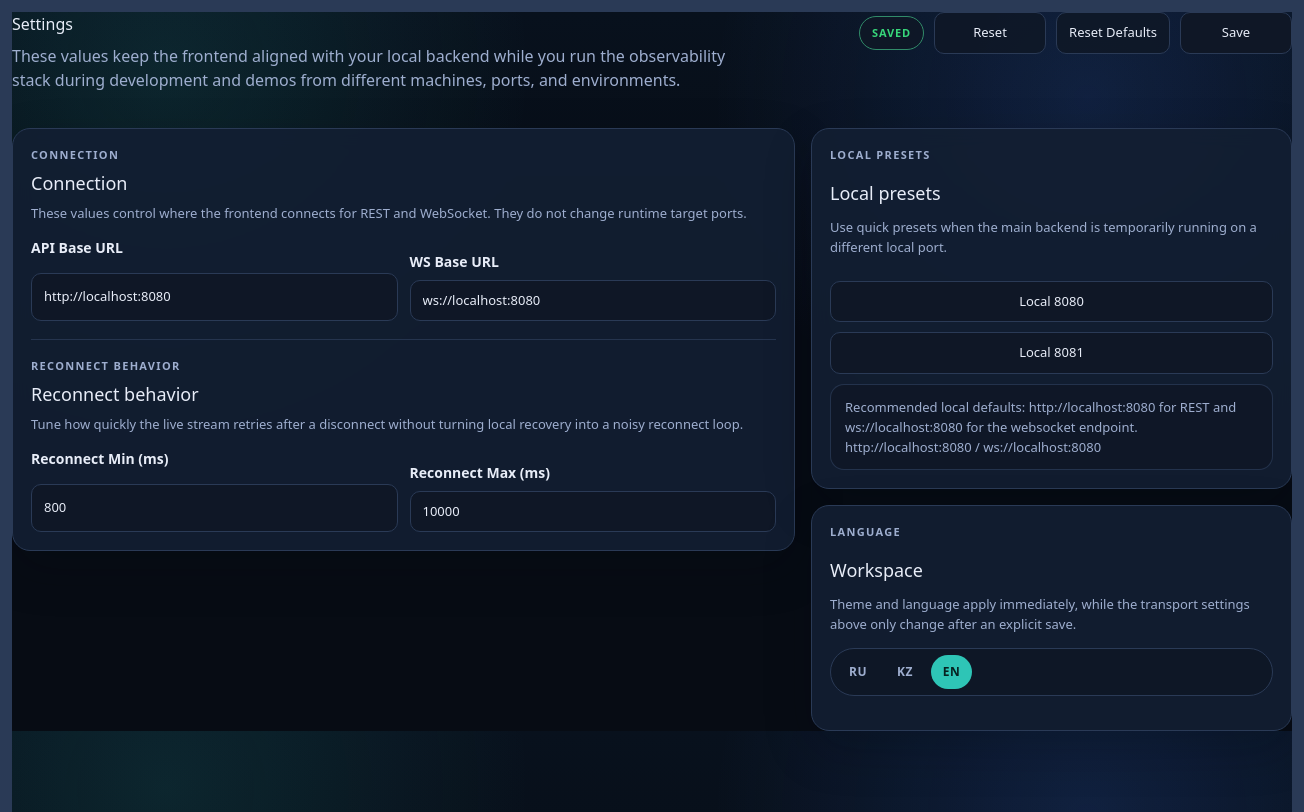
Scenario: SettingsPage › resets draft values without changing persisted settings
Replace the text in the field labelled "API Base URL" with "http://localhost:8081" at [214, 297], box [31,273,398,321]
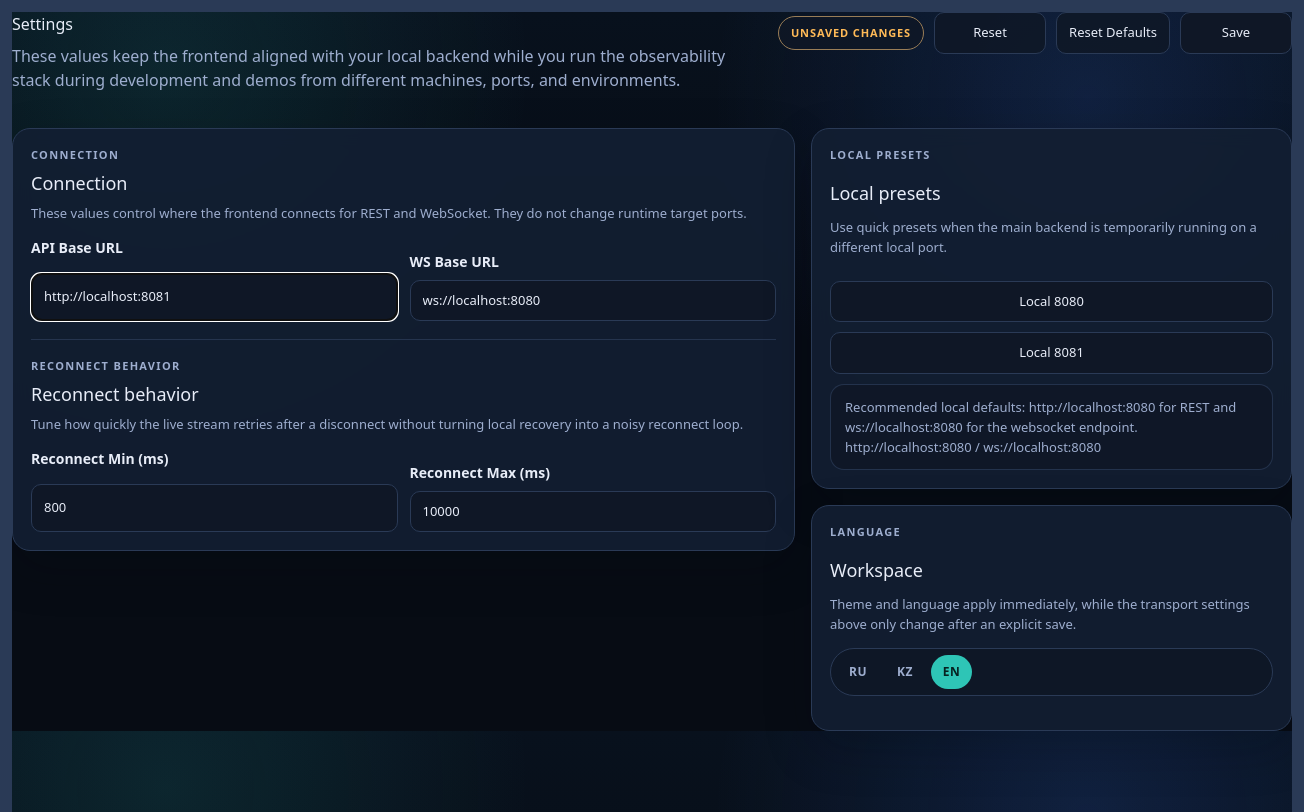
Click the button "Reset" at [990, 33], box [934,12,1046,54]
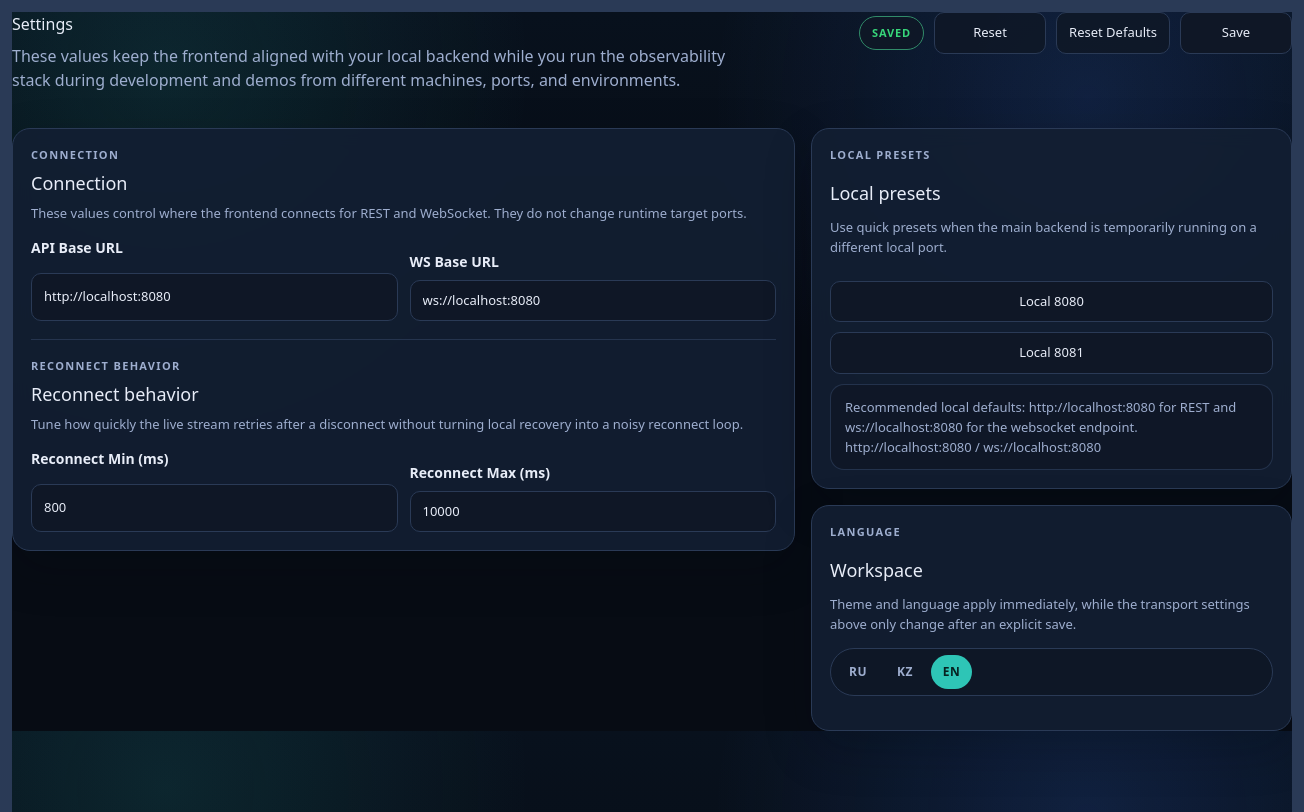
Expected: the field labelled "API Base URL" holds "http://localhost:8080", [31,273,398,321]
